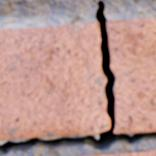brick: (78, 149, 155, 155)
broken_brick: (0, 21, 109, 138), (106, 19, 155, 132)
crack: (0, 0, 155, 154), (75, 27, 80, 34)
